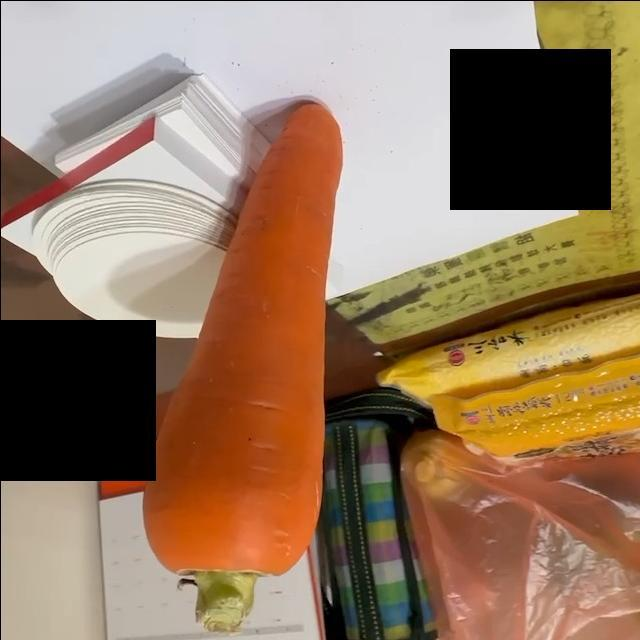carrot: (139, 100, 345, 636)
